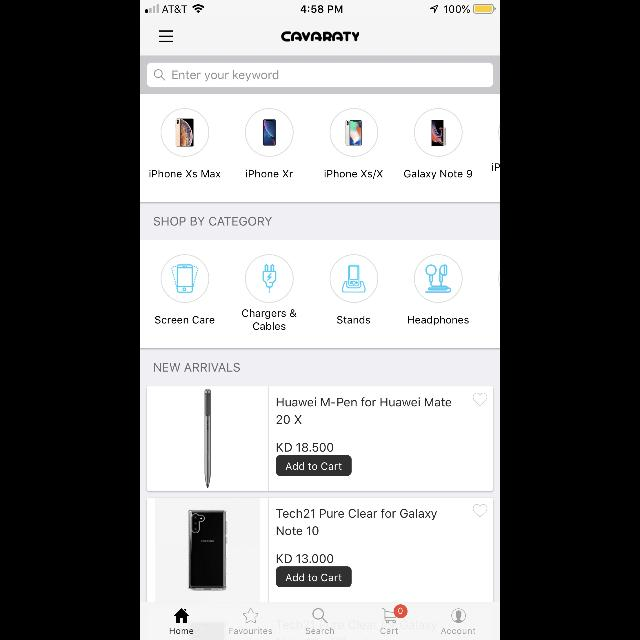icon: (382, 604, 408, 624), (174, 608, 190, 624), (312, 608, 328, 624), (244, 609, 258, 623), (452, 609, 466, 623), (473, 504, 487, 518), (472, 394, 488, 406), (158, 31, 174, 43), (154, 70, 166, 80)
image: (188, 510, 228, 590), (160, 254, 210, 304), (413, 254, 462, 304), (329, 254, 378, 304), (246, 254, 294, 304), (414, 109, 462, 158), (161, 109, 209, 157), (245, 109, 293, 157), (330, 108, 378, 156), (204, 389, 212, 488), (281, 32, 359, 42)
input: (147, 63, 493, 87)
text: (276, 398, 452, 424), (277, 509, 437, 535), (173, 70, 279, 82), (242, 310, 296, 330), (154, 217, 272, 226), (154, 362, 240, 372), (149, 168, 221, 178), (404, 170, 472, 180), (408, 316, 468, 326), (325, 169, 383, 179), (276, 442, 334, 452), (276, 554, 334, 564), (156, 316, 214, 324), (245, 170, 292, 178), (338, 316, 370, 324), (230, 628, 272, 634), (441, 628, 475, 634), (306, 628, 334, 634), (170, 628, 194, 634), (380, 628, 398, 634), (491, 163, 499, 171)
textbutton: (276, 566, 352, 588), (276, 456, 352, 476)
uppertaskbar: (140, 0, 500, 14)
